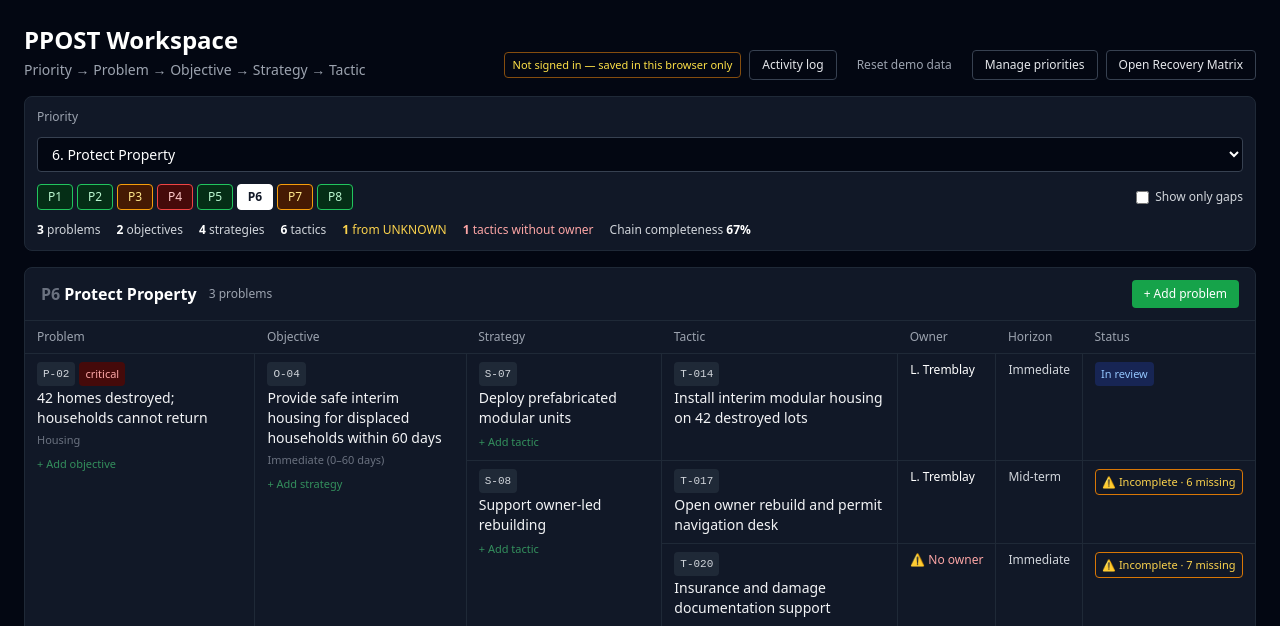
Test: adding an initial allowance needs an amount and a reason
Click the text "Insurance and damage documentation support": click(752, 598) [674,578,831,617]
(page scrolled)
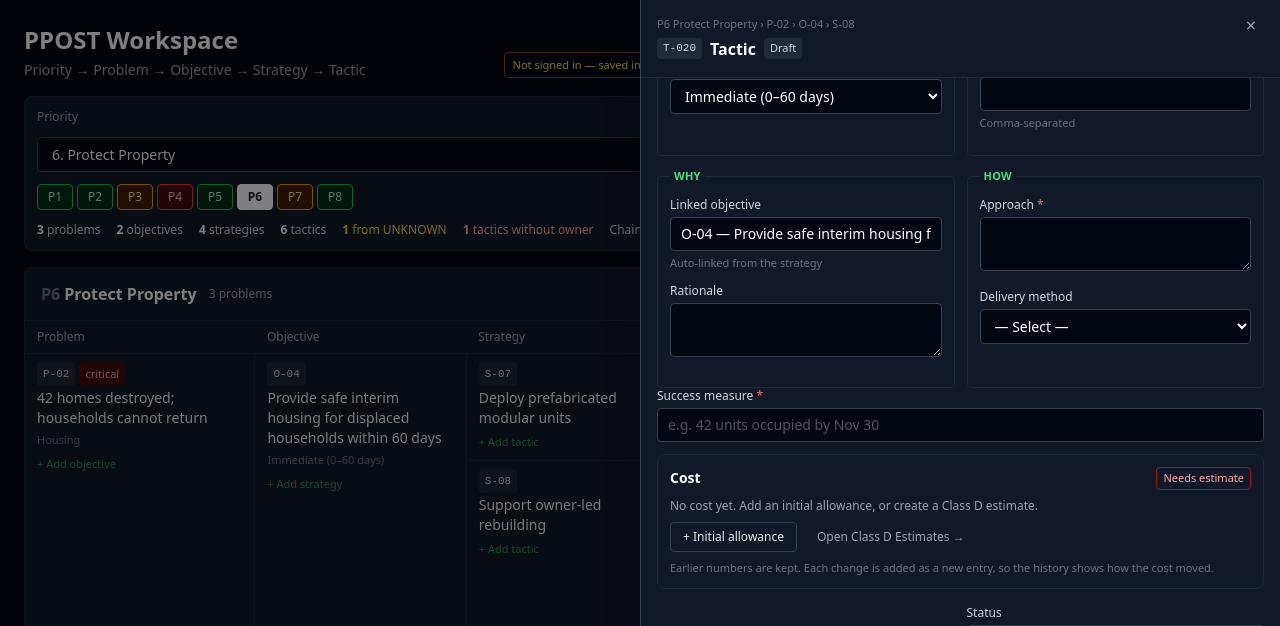
Check: the element named "Tactic cost" shows "Needs estimate", box [1163,470,1244,485]
Click the button "+ Initial allowance": click(734, 536) [670,522,797,552]
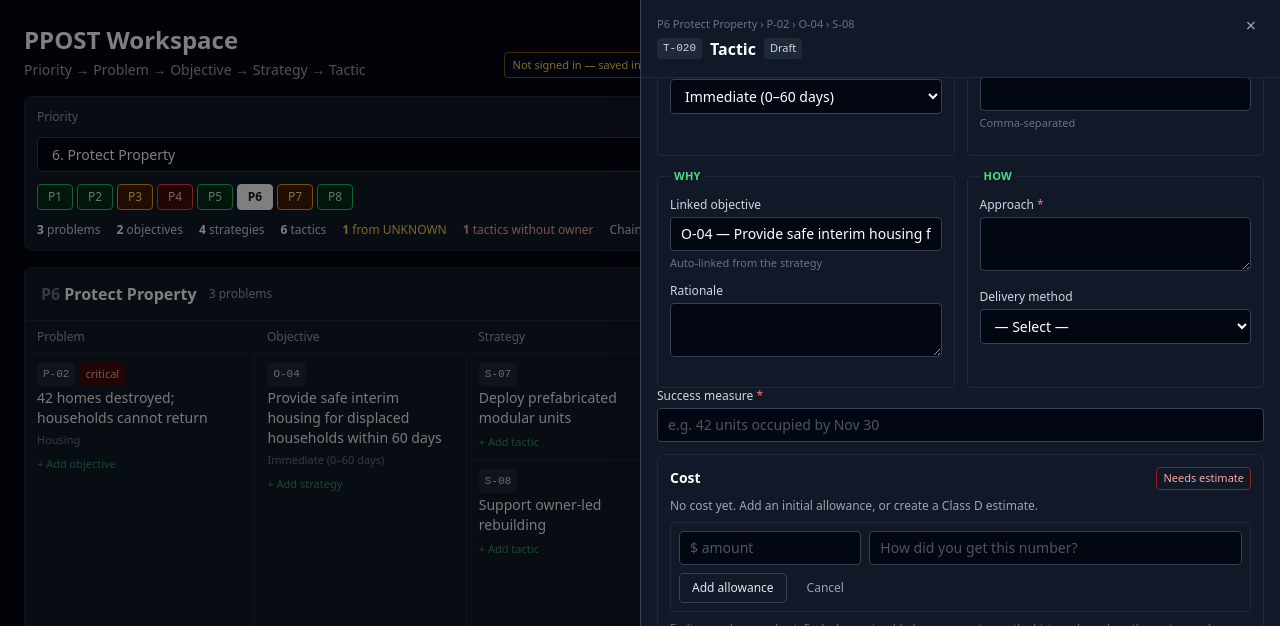
In the field named "Allowance amount": (770, 548) [679,530,861,564], type "45000"
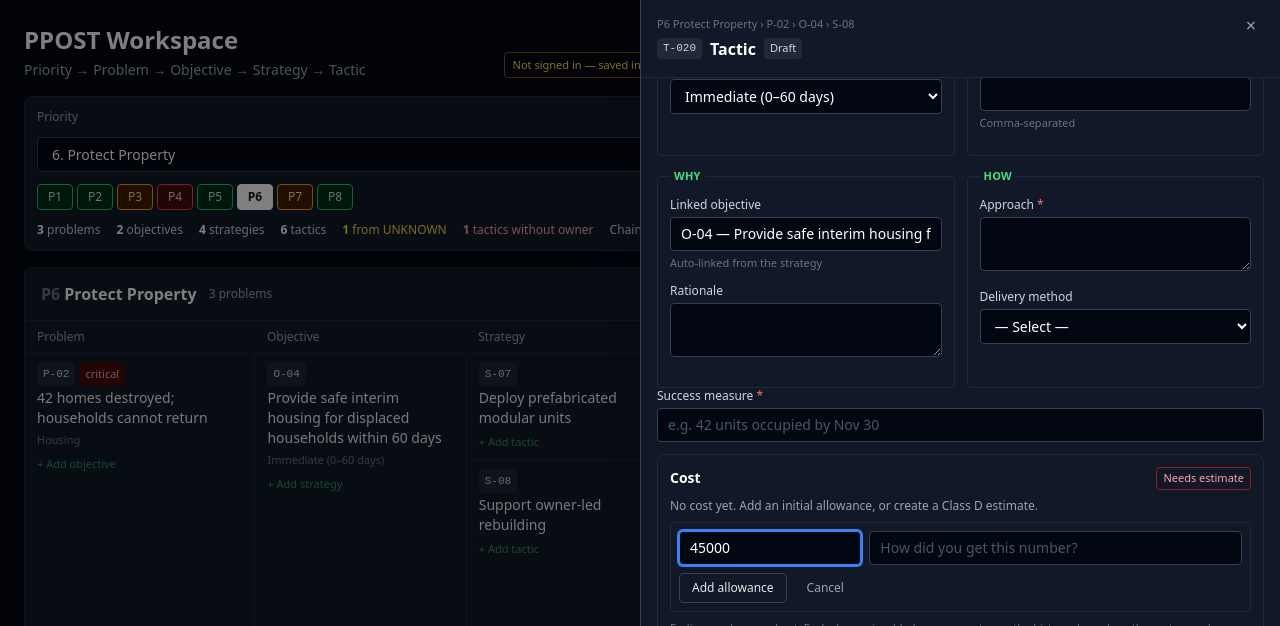
Click the button "Add allowance": click(733, 588) [679,572,787,602]
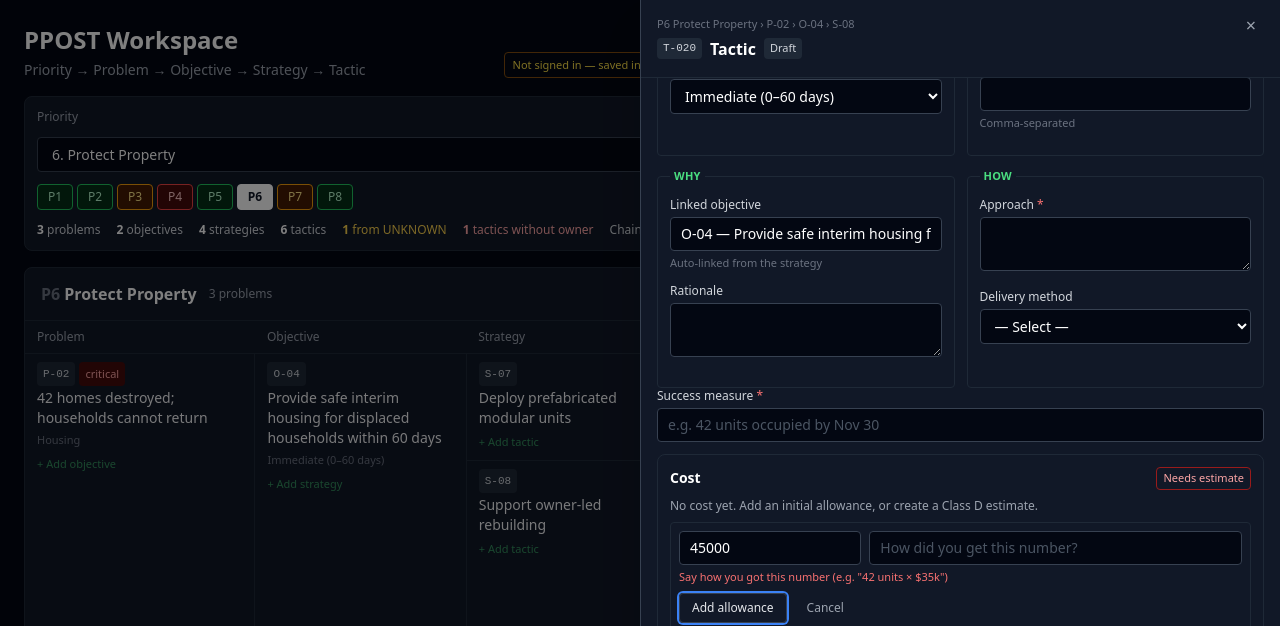
Check: the element named "Tactic cost" shows "Say how you got this number", box [679,568,948,584]
In the field named "How was this number reached": (1056, 548) [869,530,1242,564], type "2 staff for 3 months"
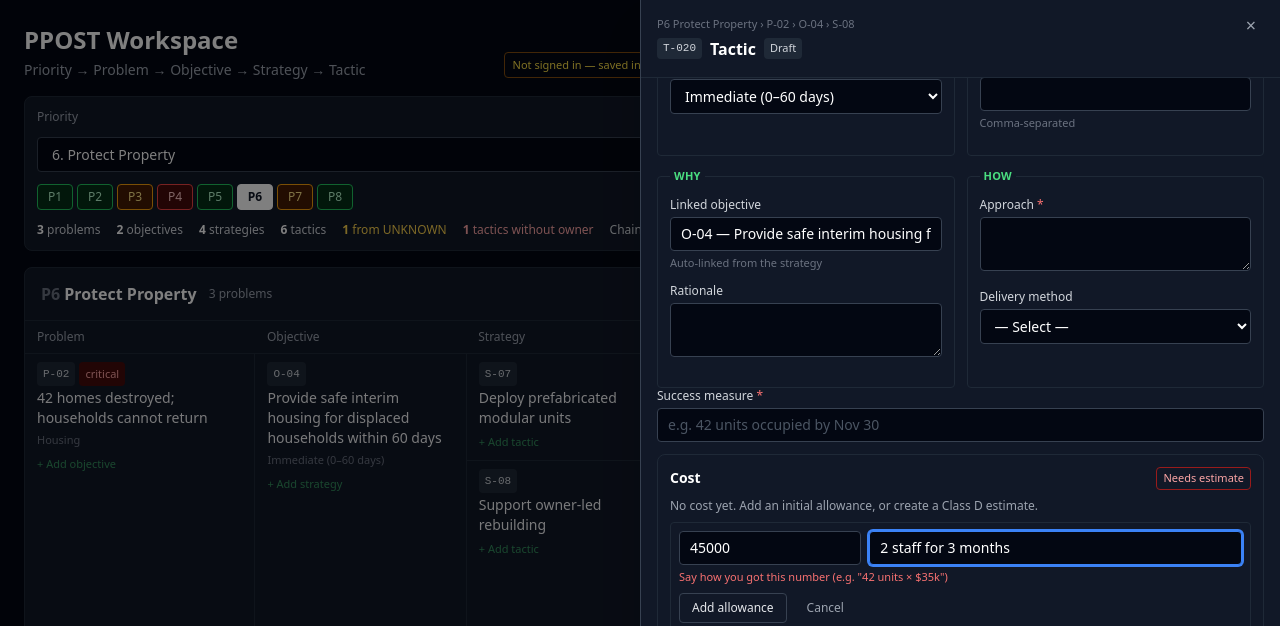
Click the button "Add allowance": click(733, 608) [679,593,787,623]
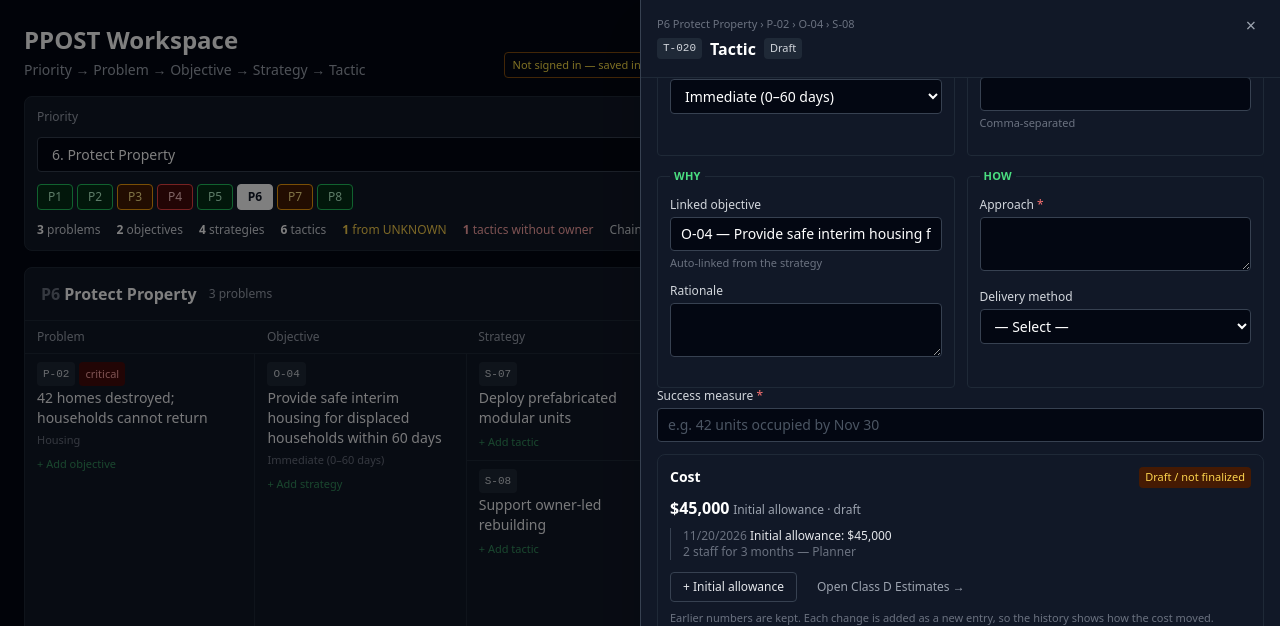
Check: the element named "Tactic cost" shows "$45,000", box [670,496,730,518]
